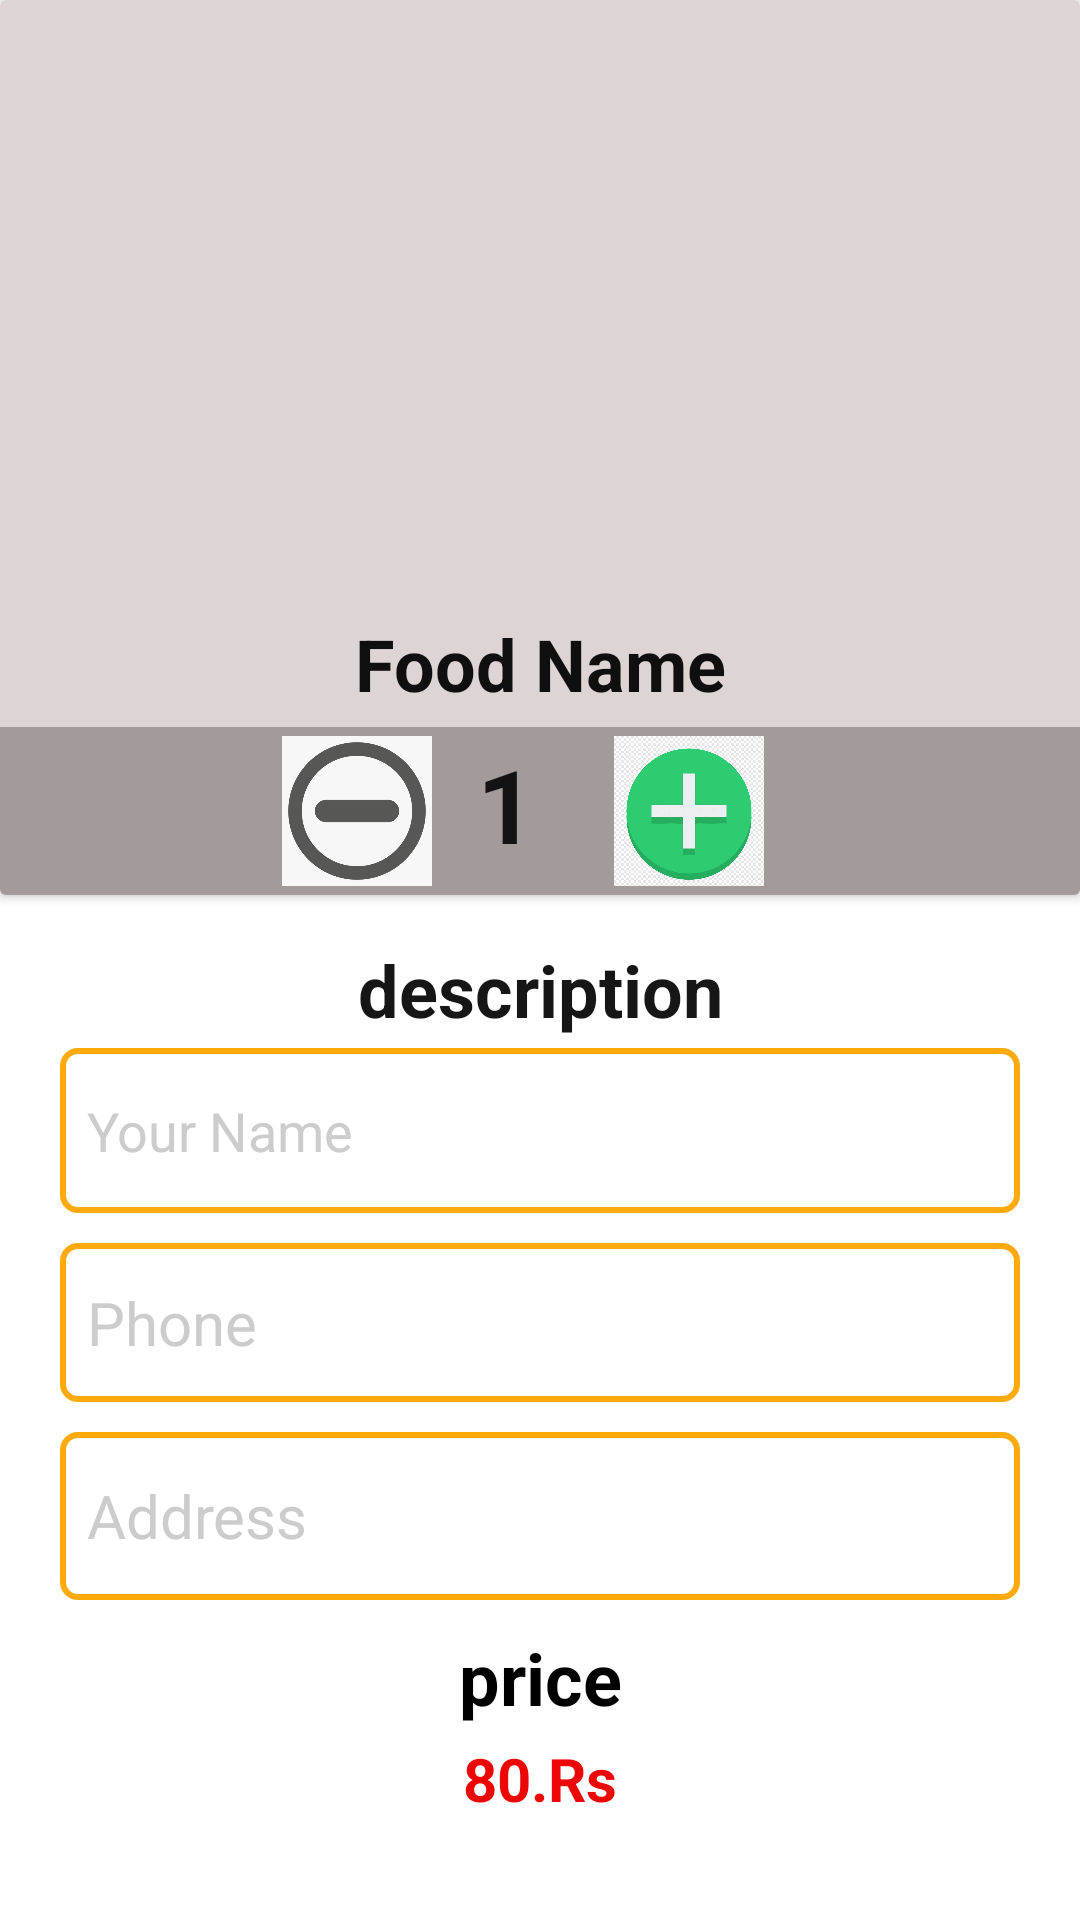

Icon click points for this 1080w x 1920h phone screenshot, format [x,y]:
add: [689,811]
minus: [357,811]
